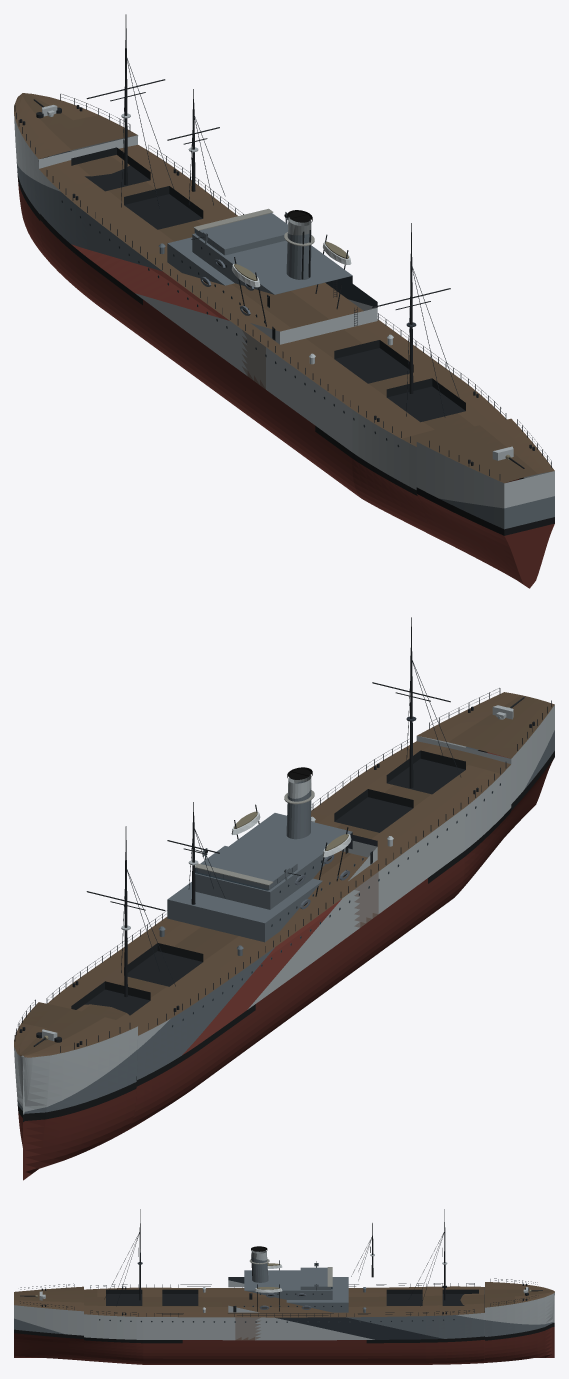
The model's file is liberty_m22.glb.
3 renders of one model, top to bottom at view 1: azimuth 30°, elevation 25°; view 2: azimuth 150°, elevation 25°; view 3: azimuth 270°, elevation 25°, orthographic. The views are drawn at different scales.
Visible parts, largest first — view 1: Hull; view 2: Hull; view 3: Hull.
Boxes of the visible parts, x1,y1,x2,y2 form: Hull: [14, 14, 554, 588]; Hull: [14, 617, 554, 1180]; Hull: [14, 1209, 554, 1364].
Size of the model in its own units: 17.41 by 41 by 135.
